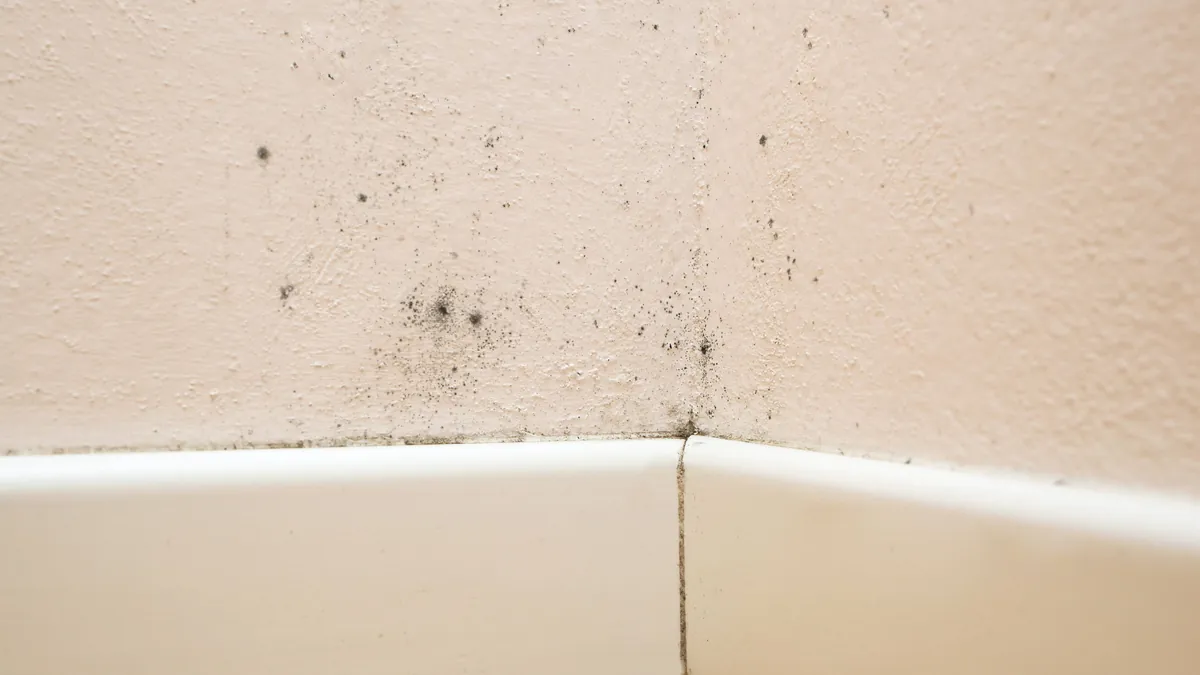schimmel: (382, 280, 523, 354), (675, 309, 726, 379), (737, 125, 795, 167), (353, 182, 400, 216), (243, 141, 294, 165)
